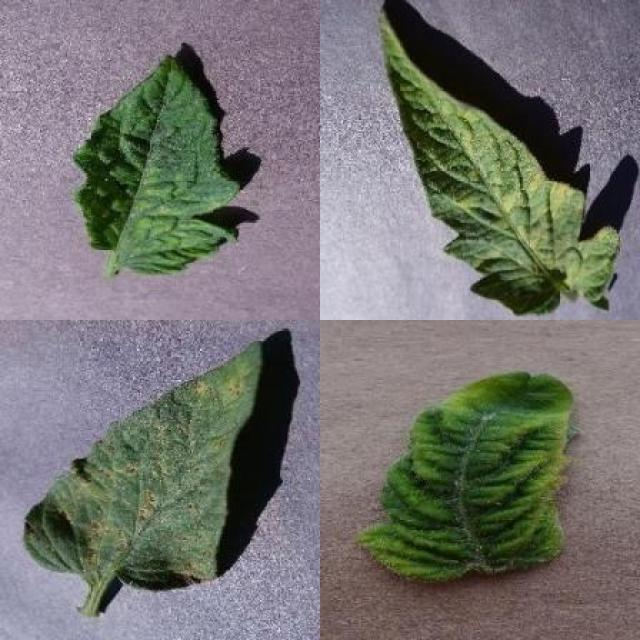Leaf Mold: (378, 10, 622, 317)
Mosaic Virus: (70, 54, 244, 275)
Septoria: (21, 337, 262, 593)
Yellow Leaf Curl Virus: (356, 368, 576, 582)
